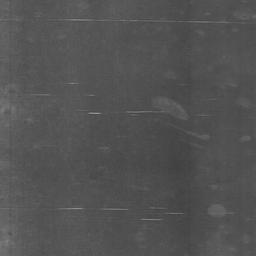Waist folding: (57, 178, 256, 253), (0, 0, 256, 44), (88, 83, 256, 143), (0, 144, 51, 200), (0, 82, 51, 114), (0, 231, 31, 248), (99, 145, 119, 151), (67, 81, 79, 86)
